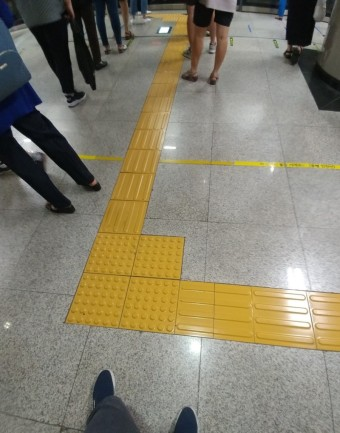guideBlock: (174, 284, 254, 347), (254, 280, 314, 351), (305, 296, 340, 369), (98, 201, 158, 236), (113, 170, 155, 201), (118, 142, 159, 171), (124, 128, 171, 152)
warningBlock: (122, 277, 176, 332), (91, 234, 154, 275), (78, 279, 133, 325), (140, 239, 189, 286)
